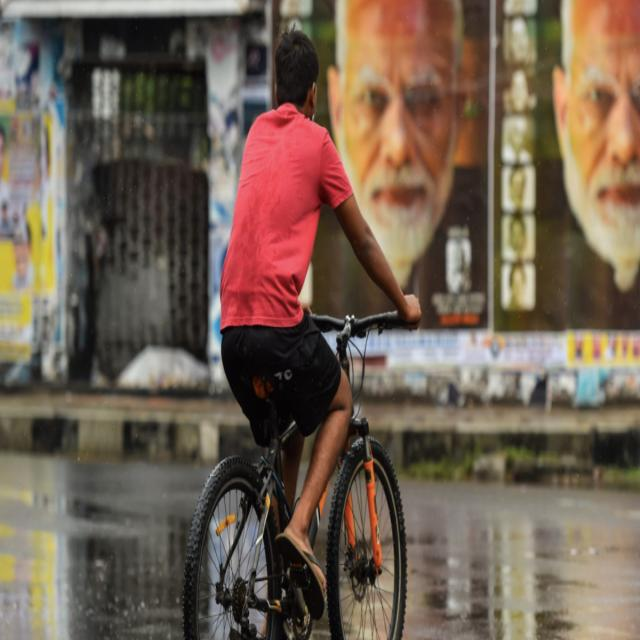bicycle: (184, 31, 421, 640)
